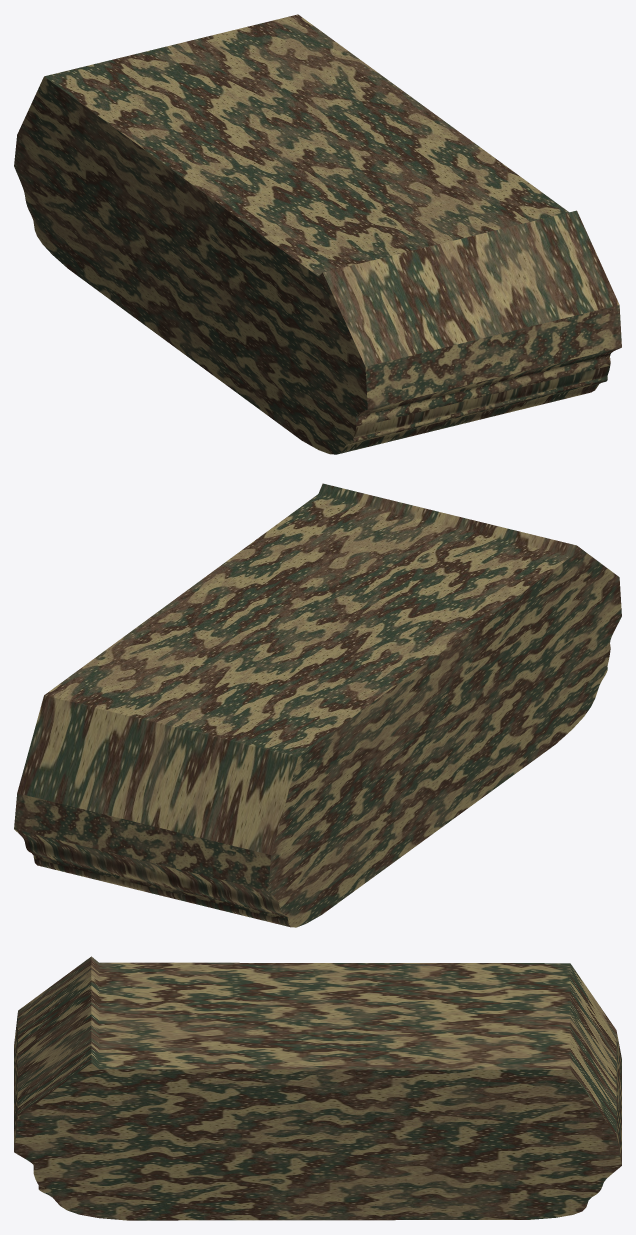
The model's file is Body.fbx.
3 renders of one model, top to bottom at view 1: azimuth 30°, elevation 25°; view 2: azimuth 150°, elevation 25°; view 3: azimuth 270°, elevation 25°, orthographic. The views are drawn at different scales.
Visible parts, largest first — view 1: Body; view 2: Body; view 3: Body.
Boxes of the visible parts, x1,y1,x2,y2 form: Body: (14,14,621,454); Body: (14,483,621,927); Body: (14,956,621,1220).
Bounding box in the file's own units: 0.7493 × 0.5169 × 1.81.
